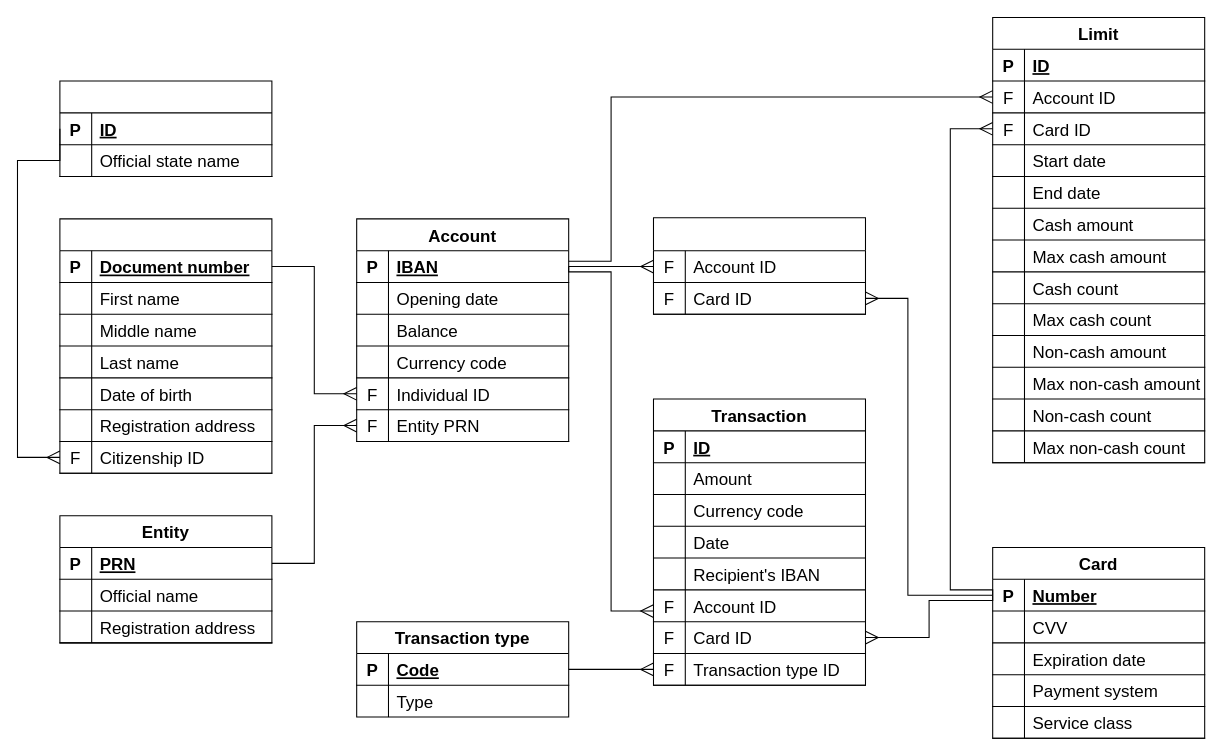
Some shapes in this 1222 by 756 pixel diagram are drawn without their labels. The shapes that lost their labels are listed below. From the top down, each one's box as (x1, y1, x2, y2) in pixels, then its label:
(59, 80, 272, 176): Citizenship
(652, 217, 865, 314): Account + Card
(59, 218, 272, 473): Individual
